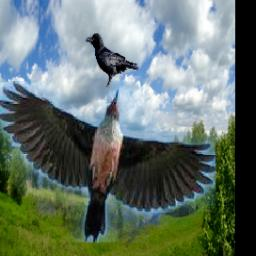Crow: (86, 33, 139, 88)
Woodpecker: (0, 82, 216, 244)
